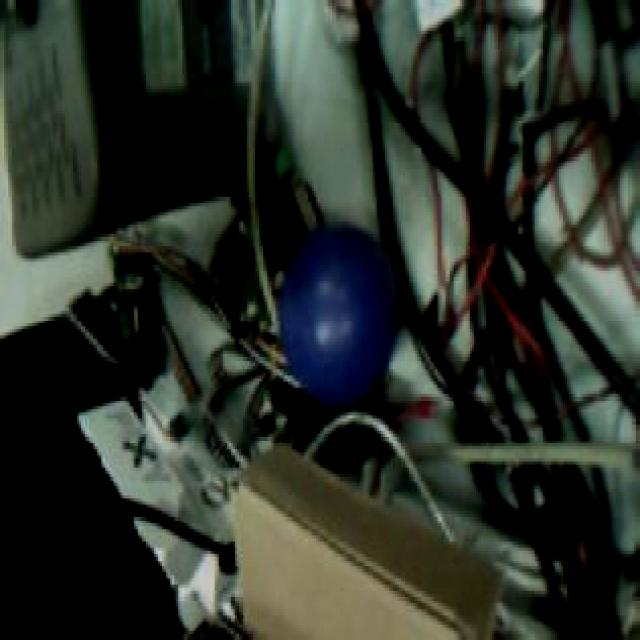BallPurple: (279, 225, 399, 406)
